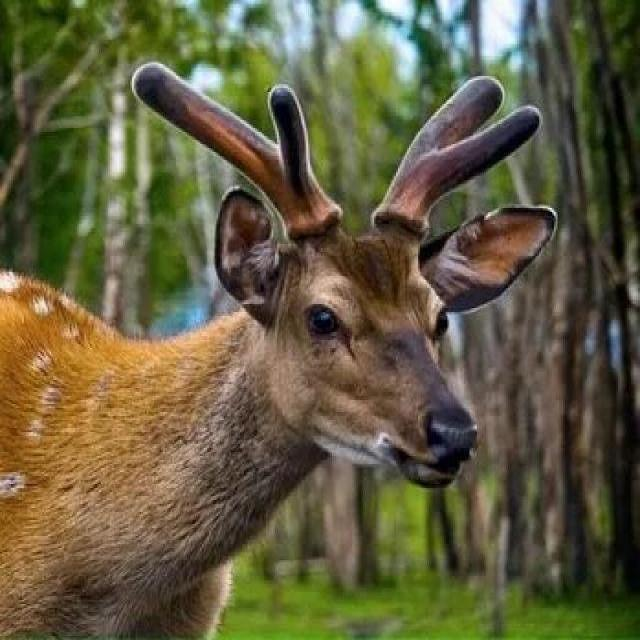deer: (0, 0, 498, 621)
